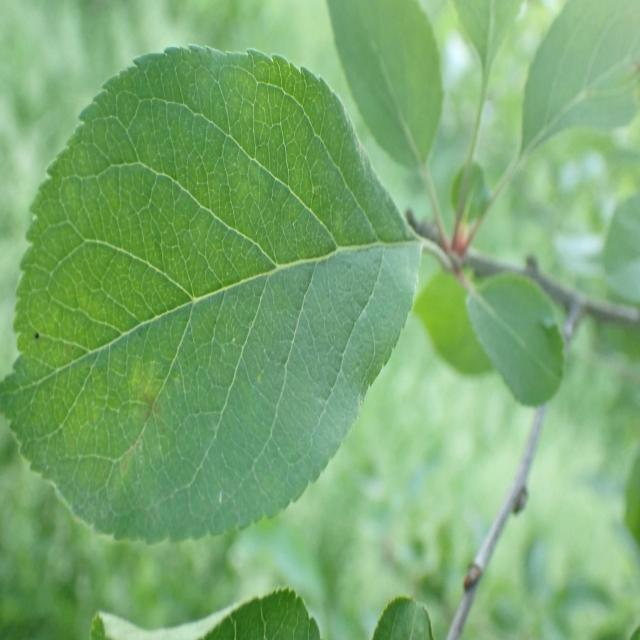scab: (51, 266, 305, 548)
